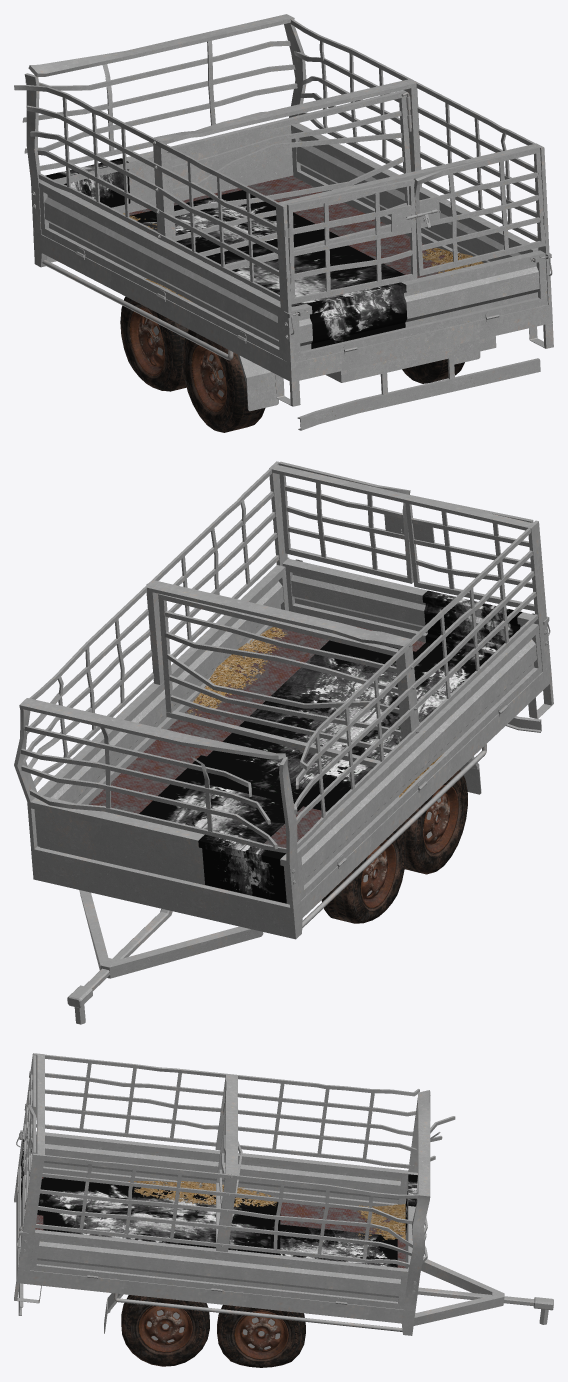
File: SM_FAR_Transporter_01.fbx
The picture shows the model from 3 angles, top to bottom: view 1: azimuth 30°, elevation 25°; view 2: azimuth 150°, elevation 25°; view 3: azimuth 270°, elevation 25°; orthographic projection. The views are drawn at different scales.
Parts seen in each view (by area): view 1: SM_FAR_Transporter_01.mo; view 2: SM_FAR_Transporter_01.mo; view 3: SM_FAR_Transporter_01.mo.
Part boxes in pixels (box(x1,y1,x2,y2)): SM_FAR_Transporter_01.mo: box(14, 14, 553, 432); SM_FAR_Transporter_01.mo: box(14, 461, 553, 1024); SM_FAR_Transporter_01.mo: box(14, 1053, 553, 1367).
Bounding box in the file's own units: 215 × 205 × 449.
